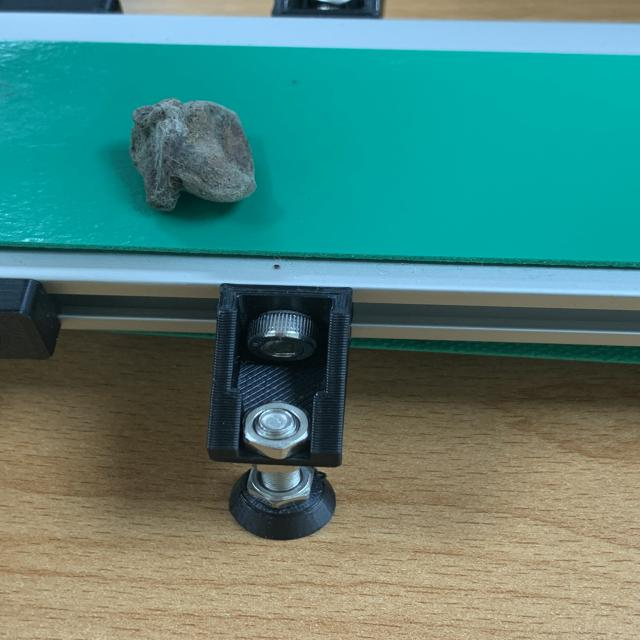Agglomerated_cocoabeans: (67, 71, 342, 256)
